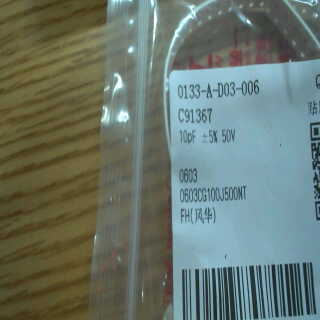10pF: (178, 128, 200, 145)
